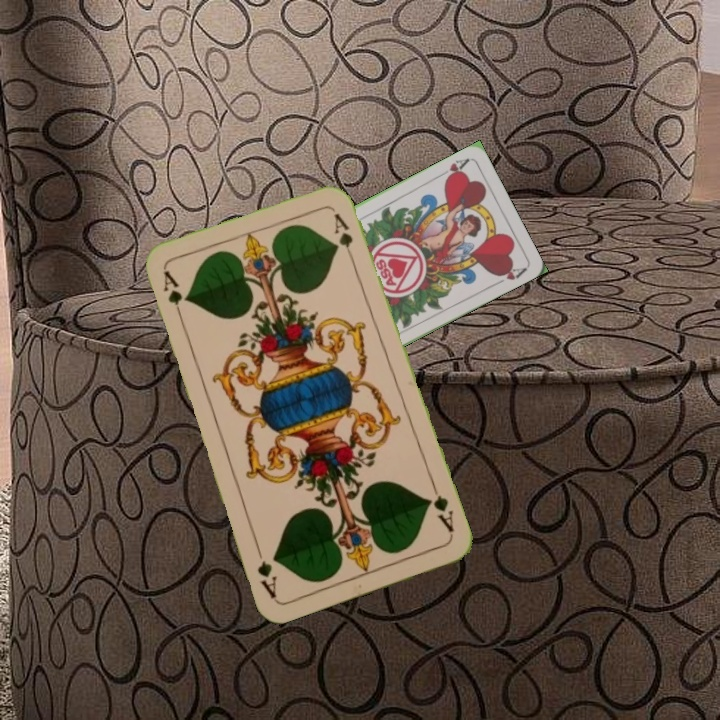GA: (423, 481, 457, 539), (159, 266, 186, 324)
HA: (435, 154, 472, 183)
